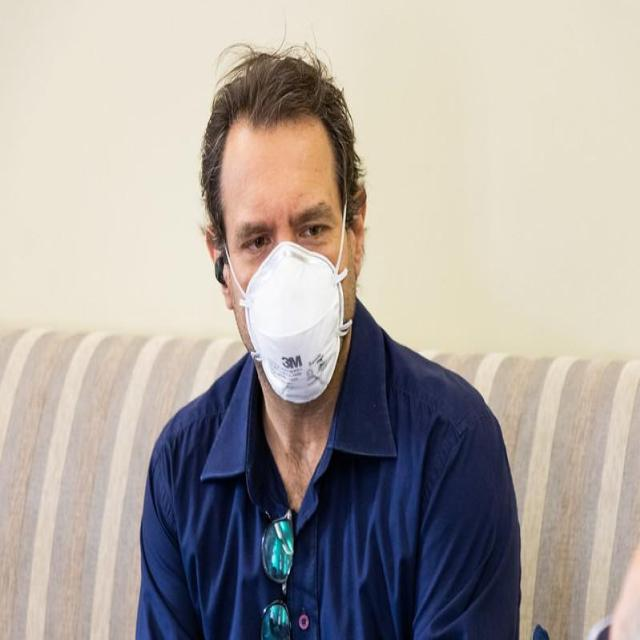Mask: (245, 240, 341, 404)
